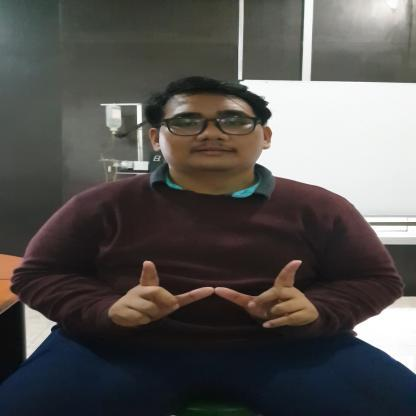W: (108, 260, 318, 330)
